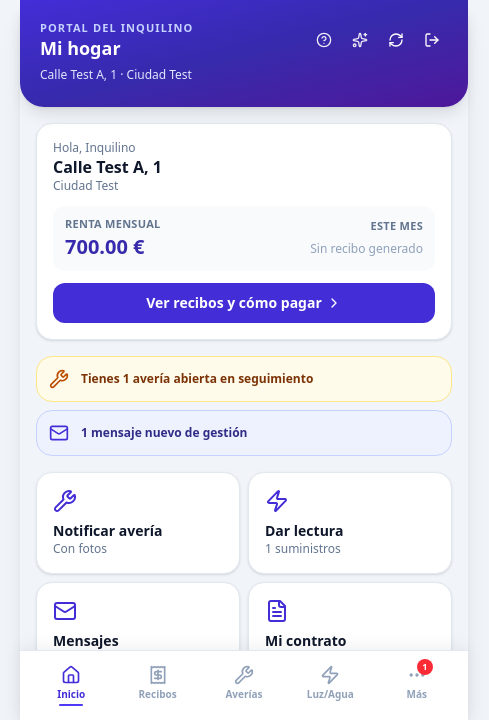
Test: E · Portal · pantallas y saneado de información › Suministros: lista el suministro del inmueble con su última lectura
Click the button "Luz/Agua": (330, 686) [287, 659, 374, 712]
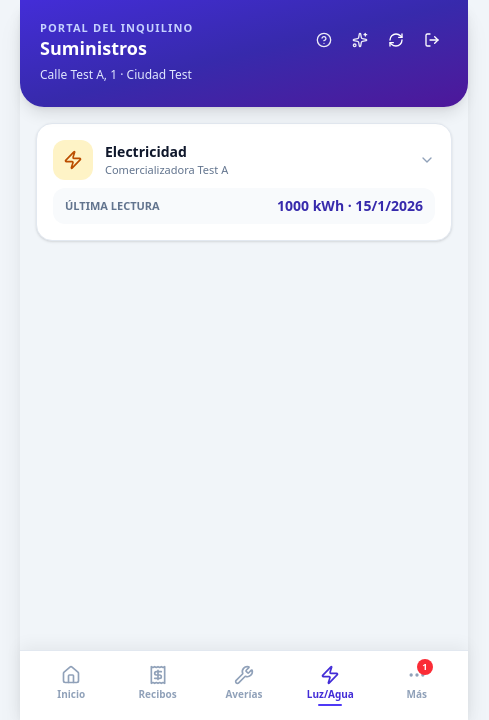
Expected: the text "Comercializadora Test A" is shown, [105, 162, 228, 177]
Expected: the text "1000 kWh" is shown, [277, 196, 423, 215]
